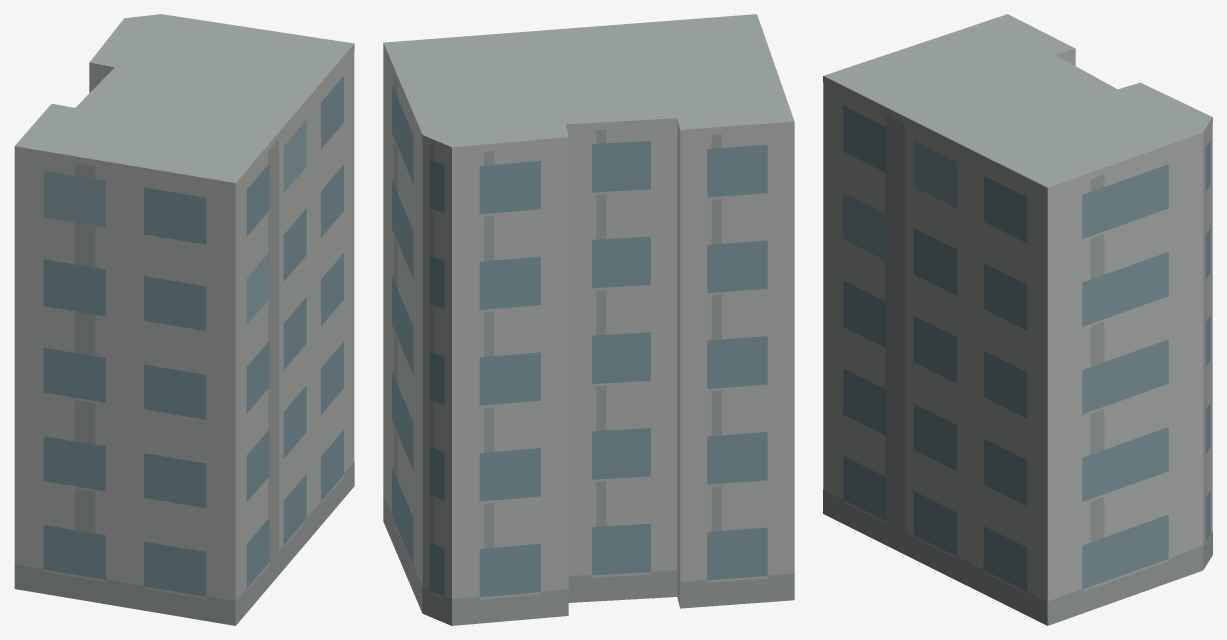
Rendered from survey-upis-32803987.glb.
The picture shows the model from 3 angles, left to right: view 1: azimuth 30°, elevation 25°; view 2: azimuth 150°, elevation 25°; view 3: azimuth 270°, elevation 25°; orthographic projection. The views are drawn at different scales.
Visible parts, largest first — view 1: survey-upis-32803987.tmp; view 2: survey-upis-32803987.tmp; view 3: survey-upis-32803987.tmp.
Boxes of the visible parts, bbox=[...] form: survey-upis-32803987.tmp: bbox=[14, 14, 354, 625]; survey-upis-32803987.tmp: bbox=[383, 14, 794, 625]; survey-upis-32803987.tmp: bbox=[823, 14, 1212, 625].
Size of the model in its own units: 13.48 by 15.83 by 12.77.
